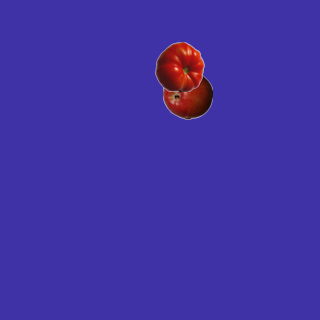Apple Braeburn: (162, 69, 212, 119)
Tomato 3: (154, 41, 204, 91)
